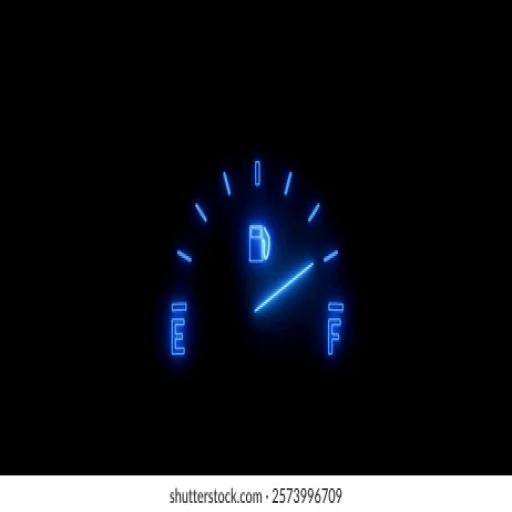empty: (168, 313, 188, 360)
fuel_icon: (248, 220, 271, 265)
full: (327, 315, 342, 360)
guage_area: (165, 149, 346, 403)
needle_center: (251, 294, 270, 315)
needle_tip: (296, 255, 316, 279)
